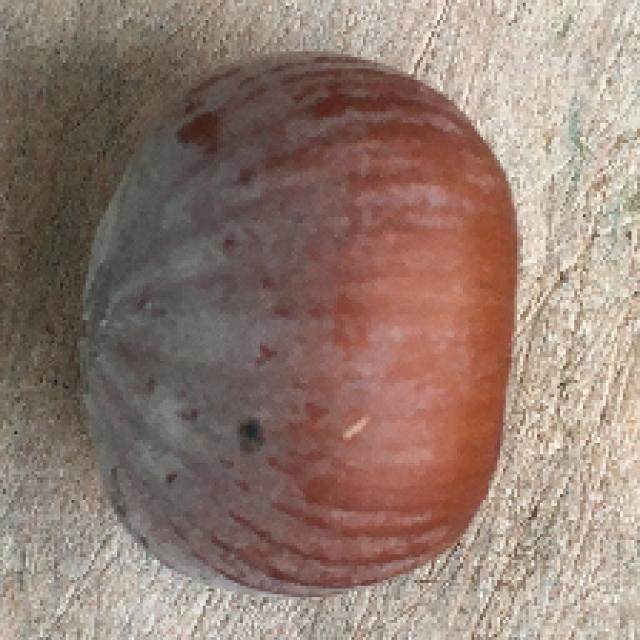qualityHazelnut: (77, 55, 522, 600)
